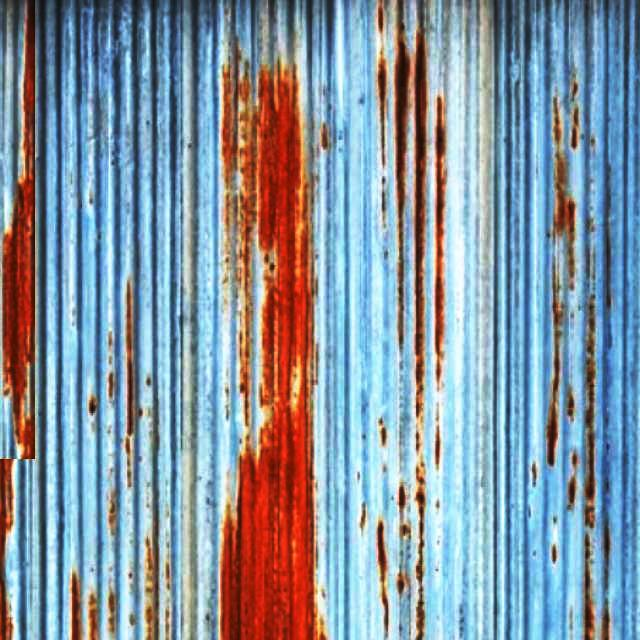Corrosion: (222, 72, 314, 640), (4, 94, 35, 459), (389, 0, 411, 218), (416, 32, 428, 419), (435, 96, 447, 380), (0, 460, 13, 640), (378, 522, 387, 626), (411, 128, 418, 220), (425, 68, 431, 159), (71, 576, 78, 640)
